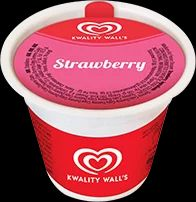Kwality_Walls: (70, 145, 128, 177), (77, 19, 127, 41)
